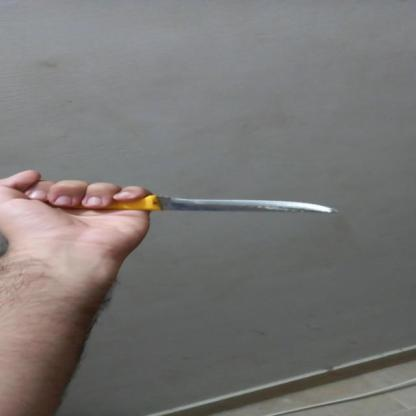Knife: (54, 195, 338, 213)
